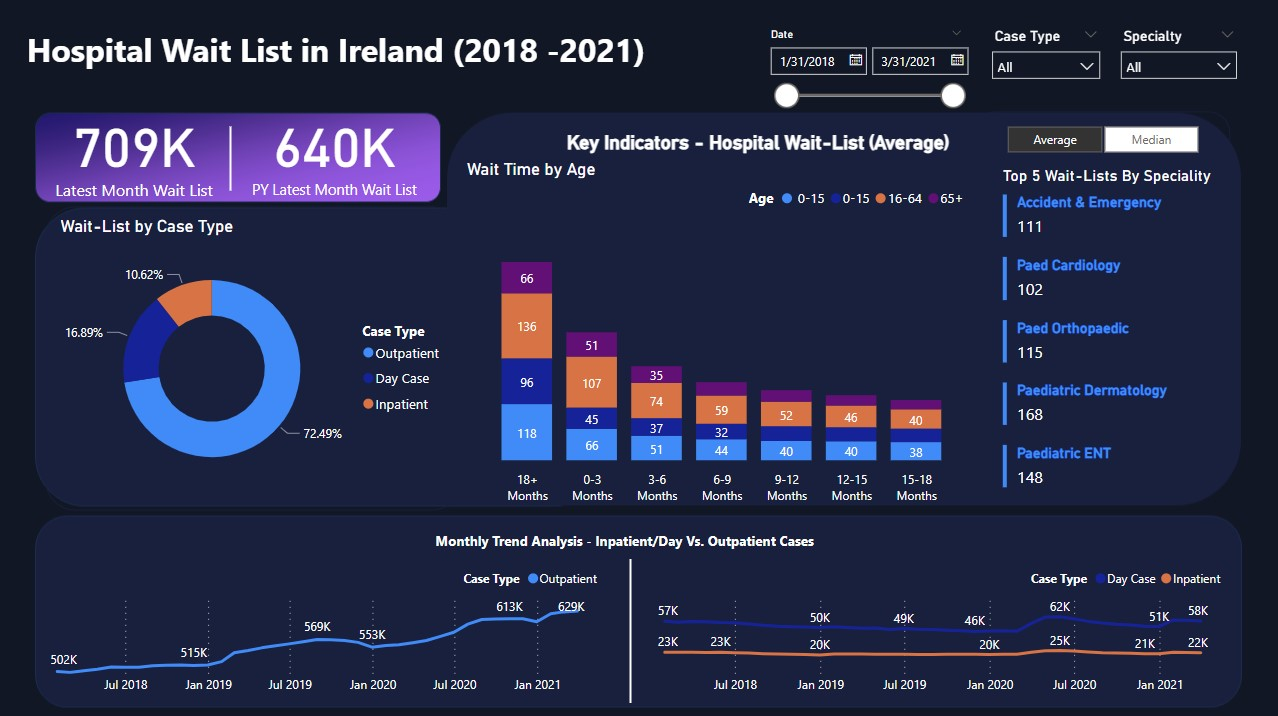

The dashboard page shown, as its layout file describes it:
{"tool":"powerbi","page":{"name":"Summary","canvas":[1280,720],"ordinal":0},"visuals":[{"type":"card","fields":{"Values":["All_Data.Latest Month Wait List"]},"box":[16,96,240,112],"z":0},{"type":"slicer","fields":{"Values":["Calculation Method.Calc.Method"]},"box":[976,112,256,48],"z":1000},{"type":"card","fields":{"Values":["All_Data.PY Month Wait List"]},"box":[192,96,288,112],"z":2000},{"type":"slicer","fields":{"Values":["All_Data.Archive_Date"]},"box":[760,24,216,112],"z":3000},{"type":"donutChart","title":"Wait-List by Case Type","fields":{"Category":["All_Data.Case_Type"],"Y":["All_Data.AVG/Median WL Switch"]},"box":[48,208,416,304],"z":4000},{"type":"slicer","fields":{"Values":["All_Data.Case_Type"]},"box":[984,24,128,64],"z":5000},{"type":"columnChart","title":"Wait Time by Age","fields":{"Y":["All_Data.AVG/Median WL Switch"],"Category":["All_Data.Time_Bands"],"Series":["All_Data.Age_Profile"]},"box":[464,160,512,352],"z":6000},{"type":"slicer","fields":{"Values":["All_Data.Specialty_Name"]},"box":[1112,24,136,64],"z":7000},{"type":"multiRowCard","title":"Top 5 Wait-Lists By Speciality","fields":{"Values":["All_Data.Specialty_Name","All_Data.AVG/Median WL"]},"box":[1000,168,232,344],"z":8000},{"type":"lineChart","fields":{"Category":["All_Data.Archive_Date"],"Y":["Sum(All_Data.Total)"],"Series":["All_Data.Case_Type"]},"box":[640,560,592,144],"z":9000},{"type":"lineChart","fields":{"Category":["All_Data.Archive_Date"],"Y":["Sum(All_Data.Total)"],"Series":["All_Data.Case_Type"]},"box":[32,560,576,144],"z":10000},{"type":"textbox","box":[24,24,736,56],"z":11000},{"type":"card","fields":{"Values":["All_Data.Dynamic Title"]},"box":[560,128,400,32],"z":12000},{"type":"textbox","box":[432,528,400,32],"z":13000},{"type":"shape","box":[112,128,240,64],"z":14000},{"type":"shape","box":[512,560,240,144],"z":15000}]}

Visuals, with their boxes in screenshot pixels (x1, y1, x2, y2), scaled from the page's 1280x720 canvas onto the 1278x716 screenshot:
card - All_Data.Latest Month Wait List: 16 95 256 207
slicer - Calculation Method.Calc.Method: 974 111 1230 159
card - All_Data.PY Month Wait List: 192 95 479 207
slicer - All_Data.Archive_Date: 759 24 974 135
"Wait-List by Case Type" donutChart: 48 207 463 509
slicer - All_Data.Case_Type: 982 24 1110 88
"Wait Time by Age" columnChart: 463 159 974 509
slicer - All_Data.Specialty_Name: 1110 24 1246 88
"Top 5 Wait-Lists By Speciality" multiRowCard: 998 167 1230 509
lineChart - All_Data.Archive_Date x Sum(All_Data.Total): 639 557 1230 700
lineChart - All_Data.Archive_Date x Sum(All_Data.Total): 32 557 607 700
textbox: 24 24 759 80
card - All_Data.Dynamic Title: 559 127 958 159
textbox: 431 525 831 557
shape: 112 127 351 191
shape: 511 557 751 700
